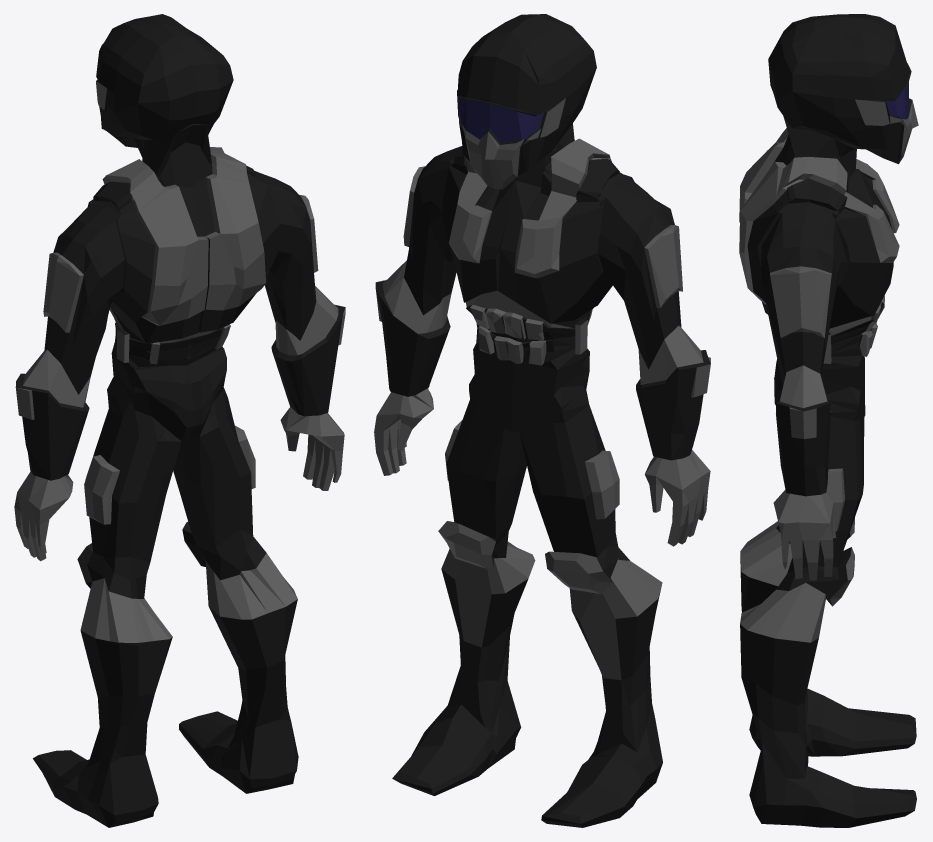
The model's file is playernew.fbx.
3 views of the same model, side by side, from view 1: azimuth 30°, elevation 25°; view 2: azimuth 150°, elevation 25°; view 3: azimuth 270°, elevation 25° (orthographic).
Visible parts, largest first — view 1: Player; view 2: Player; view 3: Player.
Part boxes in pixels (x1=…): Player: x1=14, y1=14, x2=345, y2=827; Player: x1=374, y1=14, x2=710, y2=827; Player: x1=739, y1=14, x2=918, y2=827.
Bounding box in the file's own units: 82.34 × 180 × 38.41.
